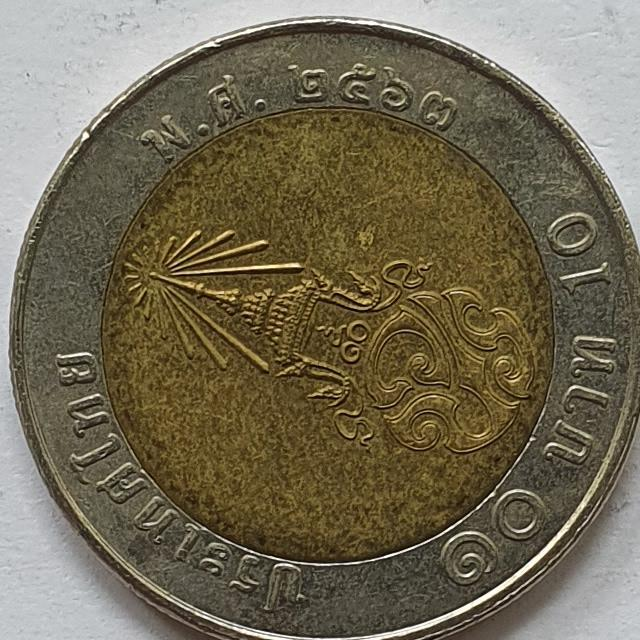10 Bath: (10, 12, 640, 640)
